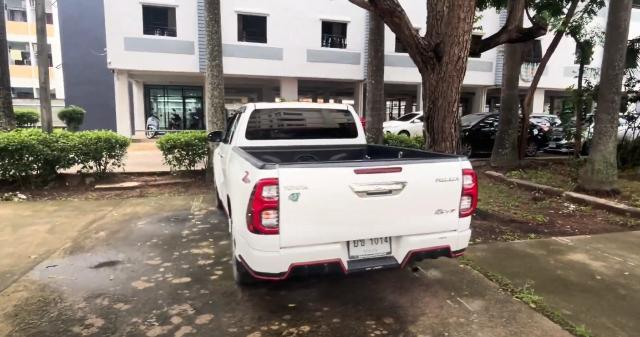pickup-truck: (208, 101, 482, 291)
